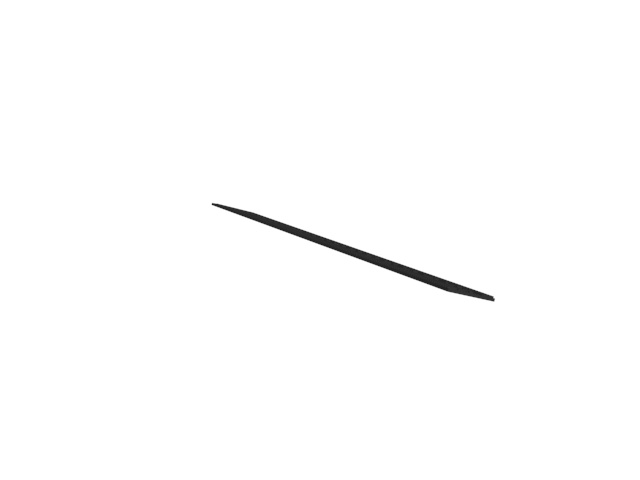ruler: (209, 201, 496, 304)
